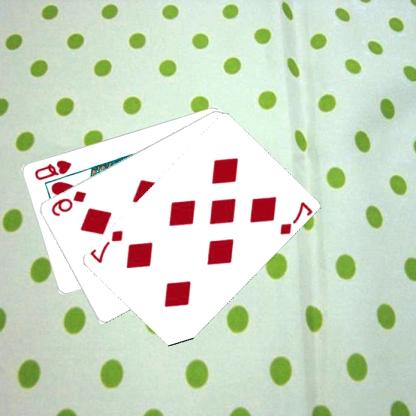6D: (50, 188, 88, 218)
7D: (278, 199, 314, 236), (90, 227, 125, 265)
QH: (33, 157, 74, 181)
